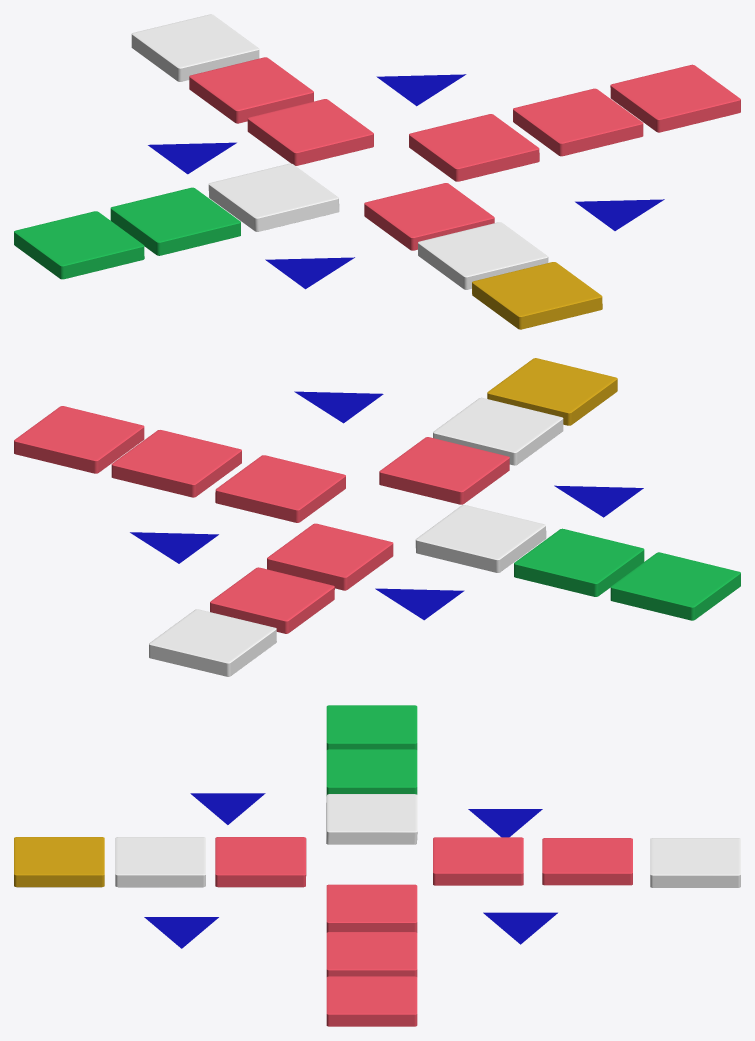
Rendered from jump_domi5.gltf.
The picture shows the model from 3 angles, top to bottom: view 1: azimuth 30°, elevation 25°; view 2: azimuth 150°, elevation 25°; view 3: azimuth 270°, elevation 25°; orthographic projection. The views are drawn at different scales.
Parts seen in each view (by area): view 1: Cube left (×3), Cube bottom (×3), Cube right (×2), Cube top (×2), Cube right center, Cube top center, Triangle 3, Triangle, Triangle 4, Triangle 2; view 2: Cube left (×3), Cube bottom (×3), Cube right (×2), Cube top (×2), Cube right center, Cube top center, Triangle 4, Triangle 2, Triangle 3, Triangle; view 3: Cube bottom (×3), Cube left (×3), Cube top (×2), Cube right (×2), Cube top center, Cube right center, Triangle 3, Triangle, Triangle 4, Triangle 2.
Boxes of the visible parts, <box> form: Cube left (×3): <box>14,163,339,279</box>; Cube bottom (×3): <box>364,183,602,329</box>; Cube right (×2): <box>513,64,740,156</box>; Cube top (×2): <box>131,14,313,123</box>; Cube right center: <box>409,114,539,181</box>; Cube top center: <box>247,99,373,165</box>; Triangle 3: <box>376,74,466,106</box>; Triangle: <box>265,257,354,289</box>; Triangle 4: <box>575,199,664,230</box>; Triangle 2: <box>148,142,236,174</box>; Cube left (×3): <box>415,505,740,620</box>; Cube bottom (×3): <box>379,358,617,504</box>; Cube right (×2): <box>14,406,241,497</box>; Cube top (×2): <box>149,567,334,676</box>; Cube right center: <box>215,455,345,522</box>; Cube top center: <box>267,523,393,590</box>; Triangle 4: <box>294,391,383,423</box>; Triangle 2: <box>375,588,464,620</box>; Triangle 3: <box>130,532,218,563</box>; Triangle: <box>554,485,643,517</box>; Cube bottom (×3): <box>14,837,306,887</box>; Cube left (×3): <box>326,705,417,844</box>; Cube top (×2): <box>542,838,740,887</box>; Cube right (×2): <box>326,932,417,1026</box>; Cube top center: <box>433,837,523,885</box>; Cube right center: <box>326,884,417,932</box>; Triangle 3: <box>483,912,557,944</box>; Triangle: <box>190,793,265,824</box>; Triangle 4: <box>144,917,218,948</box>; Triangle 2: <box>468,809,542,837</box>.
Size of the model in its own units: 9.71 by 0.2109 by 9.61.
